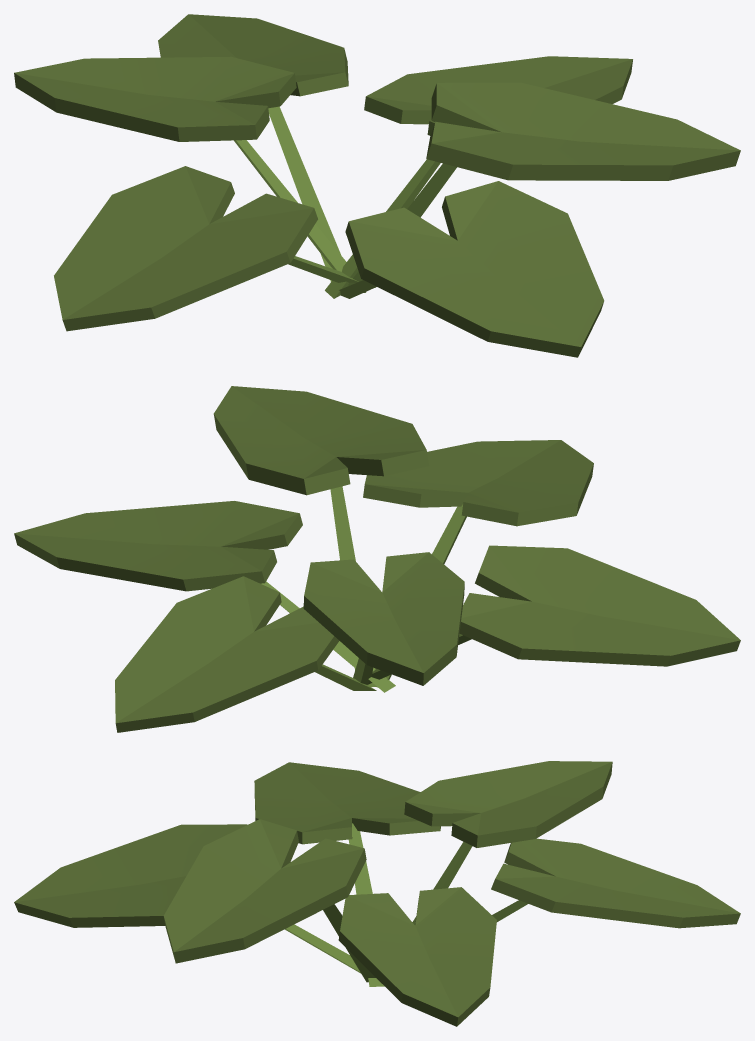
Rendered from SM_Env_Plant_05.obj.
3 views of the same model, one above another, from view 1: azimuth 30°, elevation 25°; view 2: azimuth 150°, elevation 25°; view 3: azimuth 270°, elevation 25° (orthographic). The views are drawn at different scales.
Visible parts, largest first — view 1: SM_Env_Plant_05_0; view 2: SM_Env_Plant_05_0; view 3: SM_Env_Plant_05_0.
Part boxes in pixels (box(x1,y1,x2,y2)): SM_Env_Plant_05_0: box(14, 14, 740, 357); SM_Env_Plant_05_0: box(14, 386, 740, 732); SM_Env_Plant_05_0: box(14, 761, 740, 1026).
Size of the model in its own units: 1.69 by 0.4717 by 1.89.
Materials: 1 (1 with a texture image).
